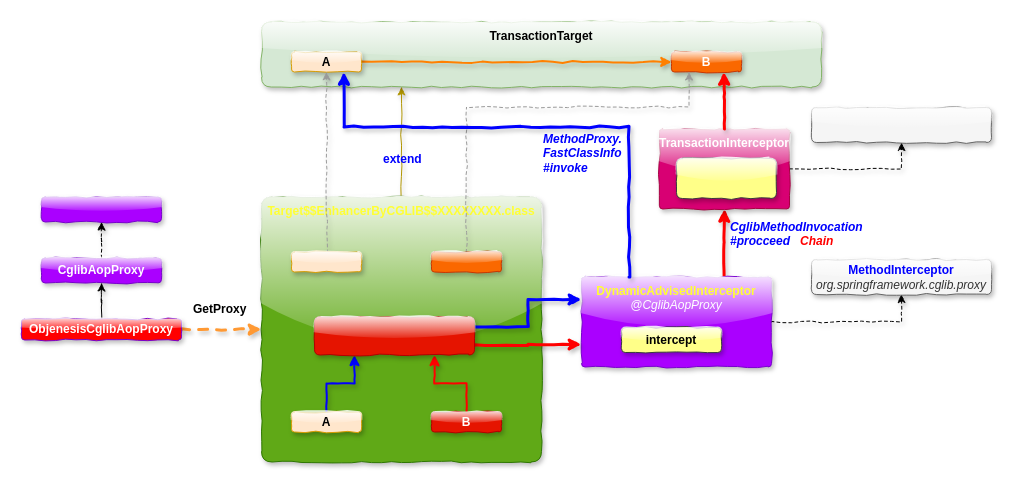
This 1015x486 diagram has some shape labels left out. Each missing label, with the centre of its shape:
AopProxy: pixel 102 210
CGLIB$A$0: pixel 327 263
CGLIB$B$0: pixel 467 263
CGLIB$CALLBACK_0: pixel 395 337
invoke Transaction: pixel 727 180
MethodInterceptor org.aopalliance.intercept: pixel 902 126
